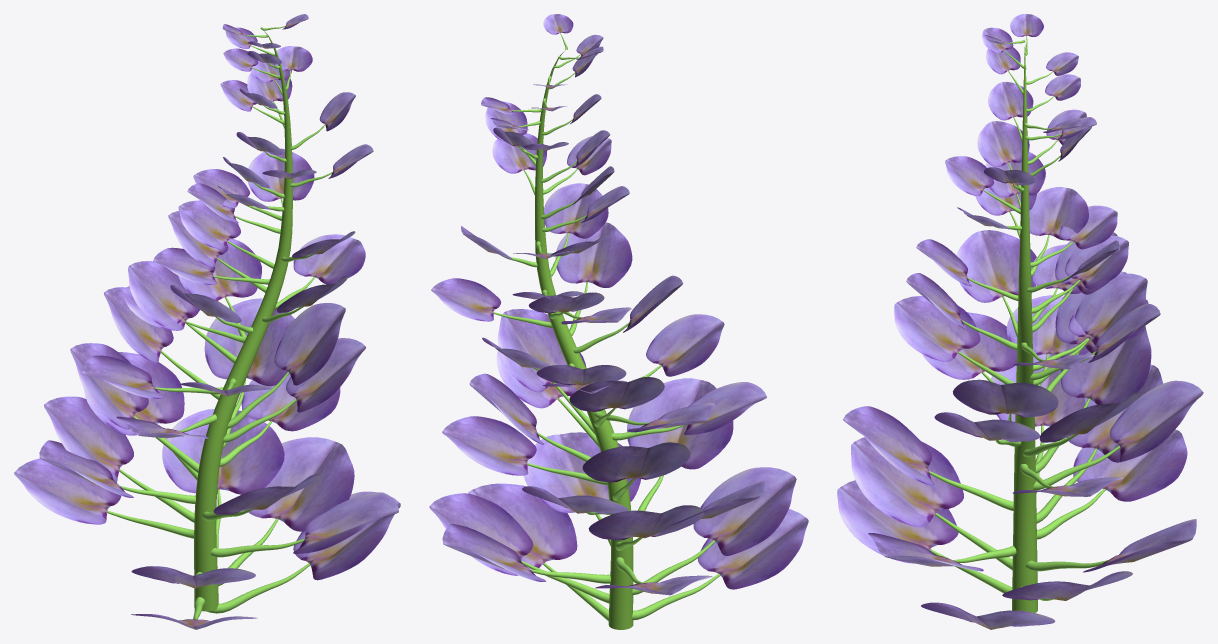
File: wisteria normal fix.fbx
3 views of the same model, side by side, from view 1: azimuth 30°, elevation 25°; view 2: azimuth 150°, elevation 25°; view 3: azimuth 270°, elevation 25° (orthographic). The views are drawn at different scales.
Visible parts, largest first — view 1: Wisteria.001; view 2: Wisteria.001; view 3: Wisteria.001.
Part boxes in pixels (box(x1,y1,x2,y2)): Wisteria.001: box(14, 14, 400, 629); Wisteria.001: box(429, 14, 808, 629); Wisteria.001: box(837, 14, 1203, 629).
Bounding box in the file's own units: 253 × 437 × 234.
3 materials, 1 textured.
